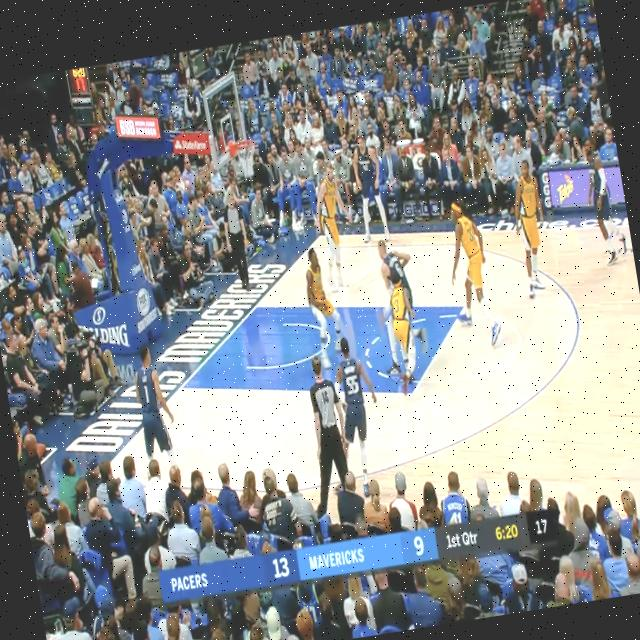no foul: (357, 233, 440, 394), (288, 161, 358, 341)
